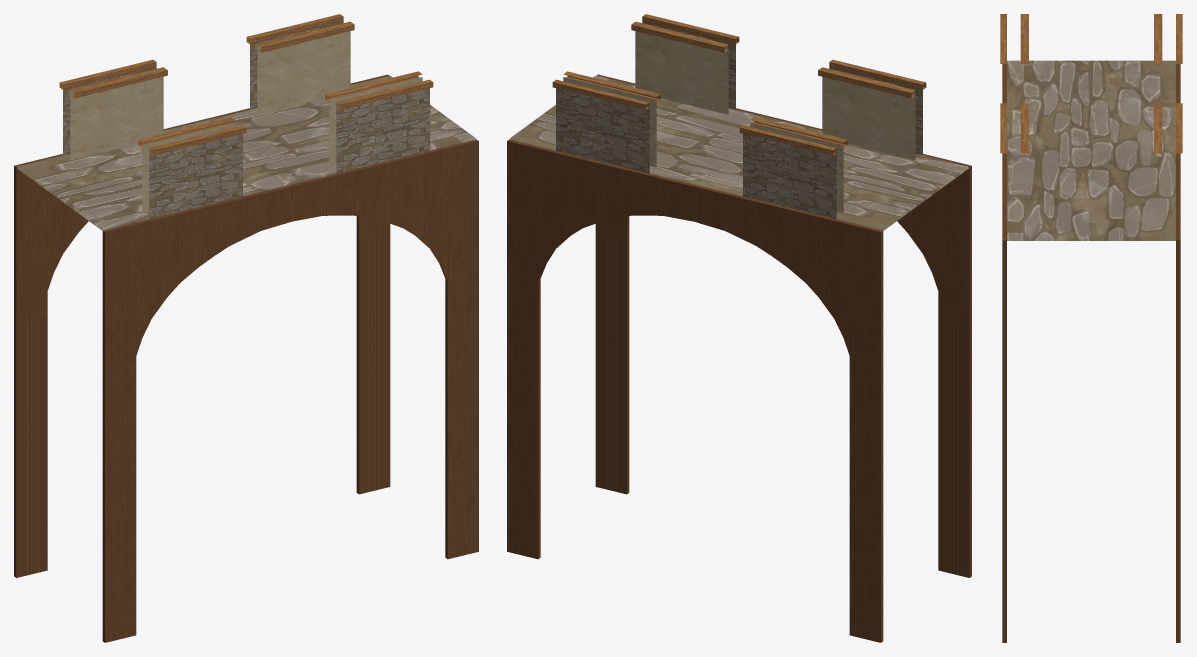
File: Burg_Torbau.gltf
3 views of the same model, side by side, from view 1: azimuth 30°, elevation 25°; view 2: azimuth 150°, elevation 25°; view 3: azimuth 270°, elevation 25° (orthographic).
Visible parts, largest first — view 1: Burg_Torbau; view 2: Burg_Torbau; view 3: Burg_Torbau.
Boxes of the visible parts, bbox=[...] form: Burg_Torbau: bbox=[14, 14, 478, 642]; Burg_Torbau: bbox=[507, 14, 971, 642]; Burg_Torbau: bbox=[1000, 14, 1182, 642].
Size of the model in its own units: 6 by 7.39 by 2.58.
5 materials, 5 textured.
